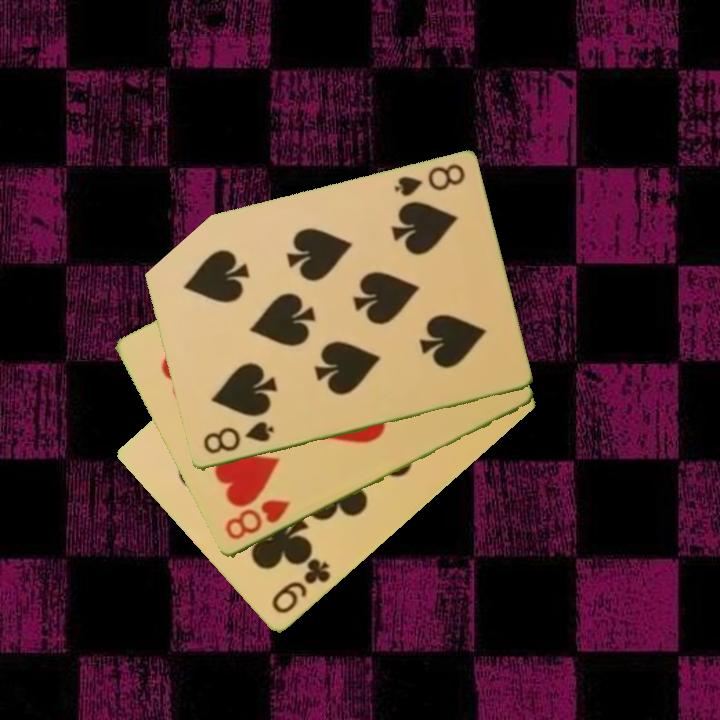8h: (221, 496, 293, 544)
8s: (199, 418, 277, 458), (390, 160, 468, 200)
9c: (267, 555, 334, 618)
